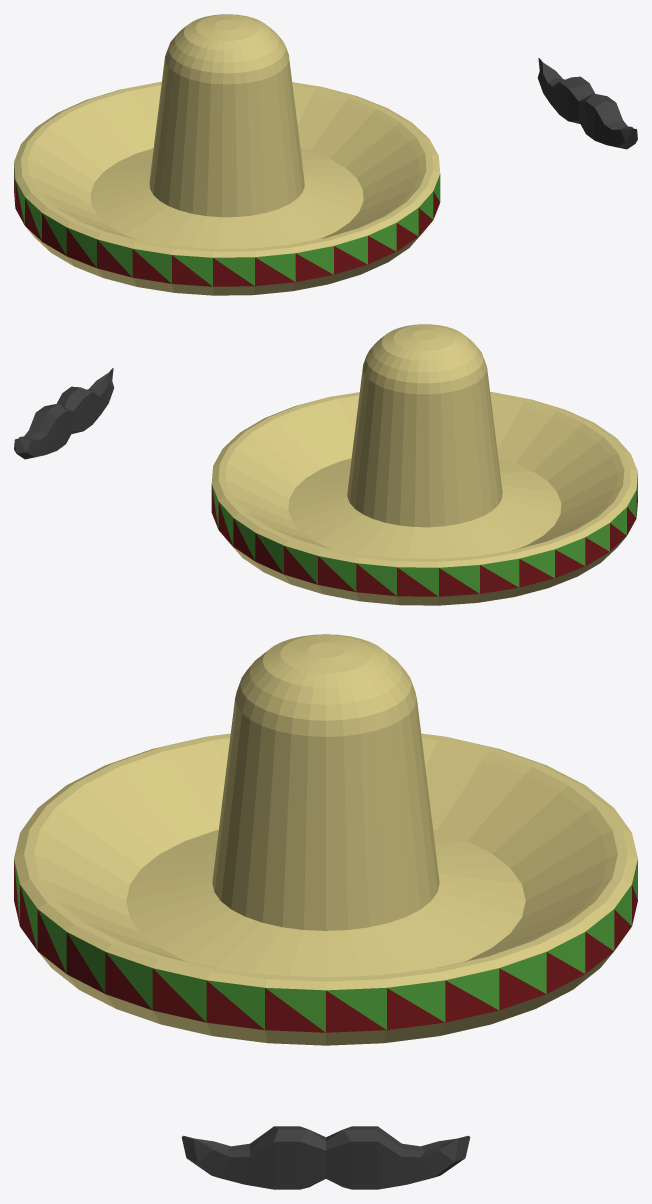
Rendered from hat and stache.fbx.
The picture shows the model from 3 angles, top to bottom: view 1: azimuth 30°, elevation 25°; view 2: azimuth 150°, elevation 25°; view 3: azimuth 270°, elevation 25°; orthographic projection. The views are drawn at different scales.
Parts seen in each view (by area): view 1: Circle, Cube; view 2: Circle, Cube; view 3: Circle, Cube.
Part boxes in pixels (<box>): Circle: <box>14,14,440,295</box>; Cube: <box>537,58,637,149</box>; Circle: <box>211,324,637,605</box>; Cube: <box>14,368,114,459</box>; Circle: <box>14,634,637,1045</box>; Cube: <box>181,1126,470,1189</box>.
Bounding box in the file's own units: 602 × 198 × 400.
